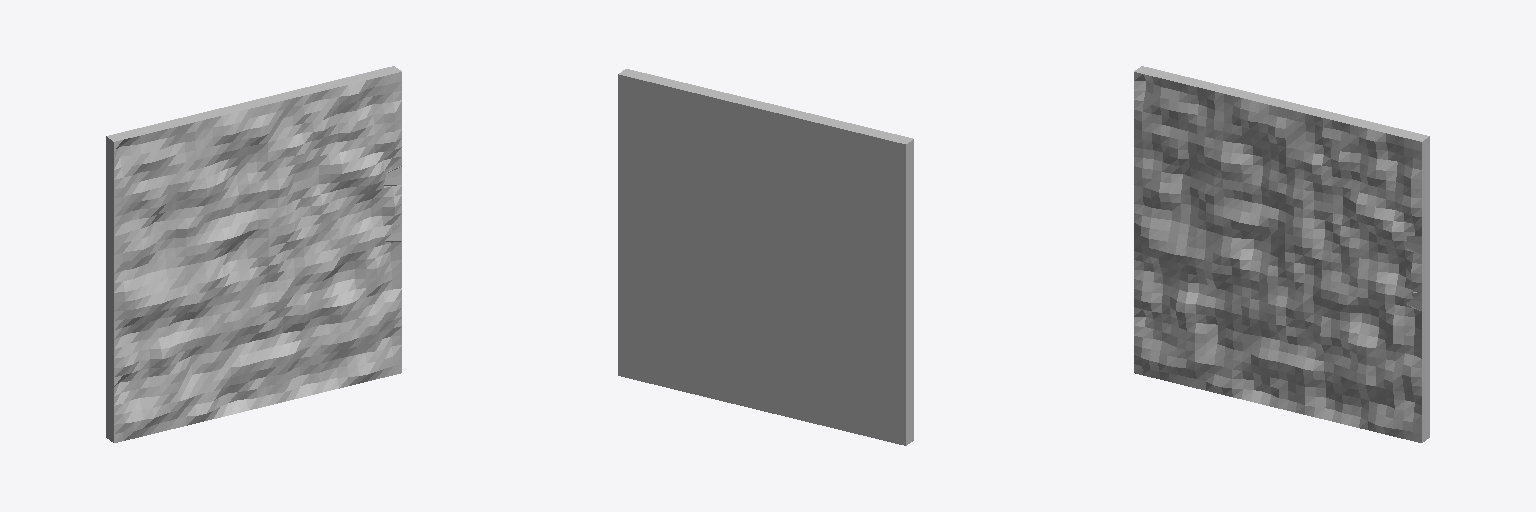
File: lava.obj
3 views of the same model, side by side, from view 1: azimuth 30°, elevation 25°; view 2: azimuth 150°, elevation 25°; view 3: azimuth 330°, elevation 25° (orthographic).
Visible parts, largest first — view 1: Cube; view 2: Cube; view 3: Cube.
Part boxes in pixels (bbox=[...]): Cube: bbox=[106, 66, 401, 442]; Cube: bbox=[618, 69, 913, 445]; Cube: bbox=[1134, 66, 1429, 442].
Bounding box in the file's own units: 48 × 48 × 3.35.